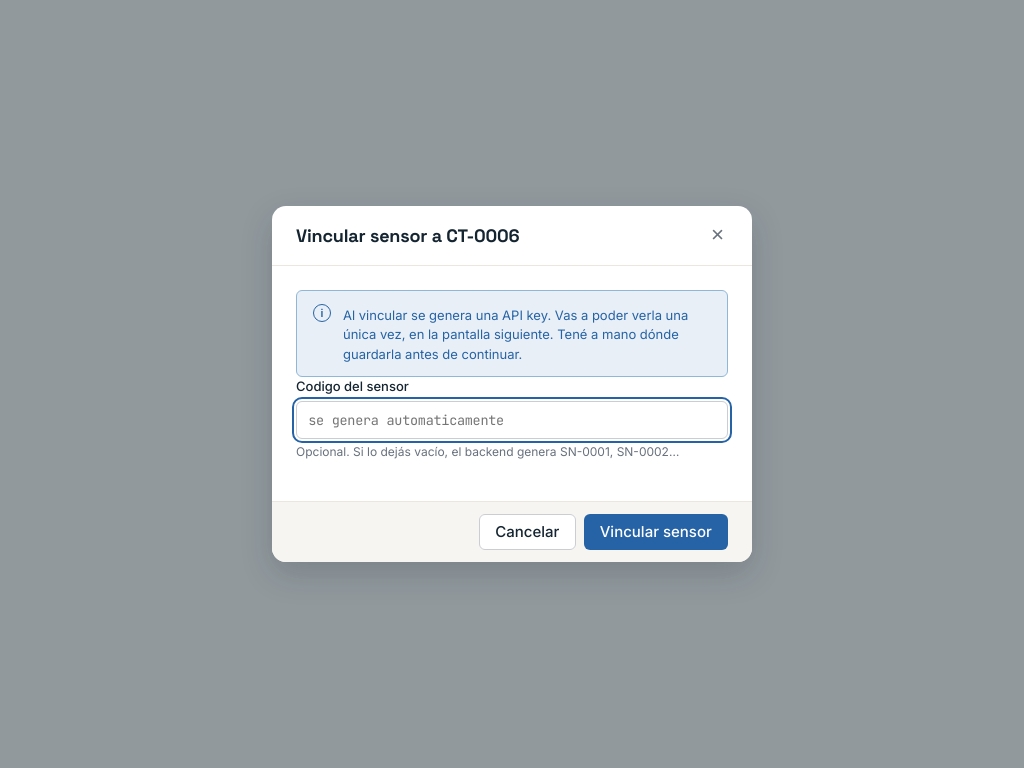
vincular sensor y mostrar la API key › muestra la clave completa y avisa que no vuelve a aparecer
Click the button "Vincular sensor": (656, 532) [584,514,728,550]
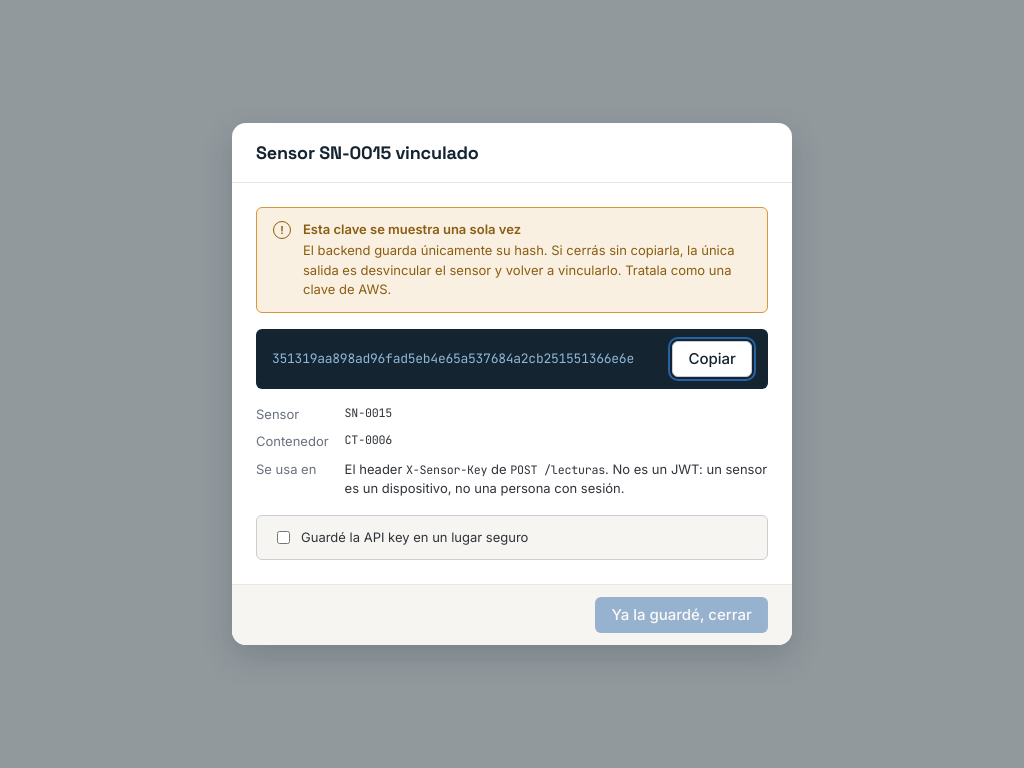
Check: the text "351319aa898ad96fad5eb4e65a537684a2cb251551366e6e" is shown, box [272,348,660,369]
Check: the text "Esta clave se muestra una sola vez" is shown, box [303,220,521,236]
